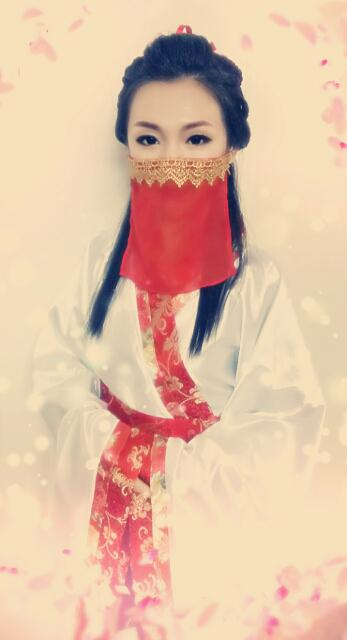WRONG: (128, 114, 221, 207)
